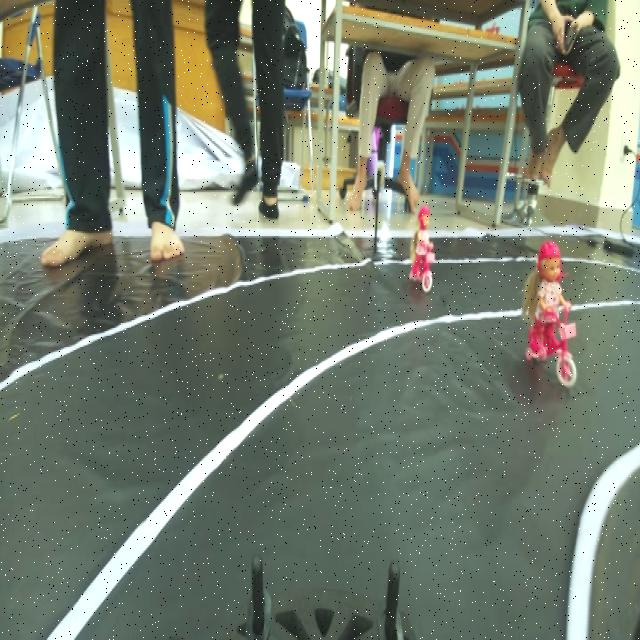pedestrian: (519, 244, 584, 385), (404, 196, 442, 290)
